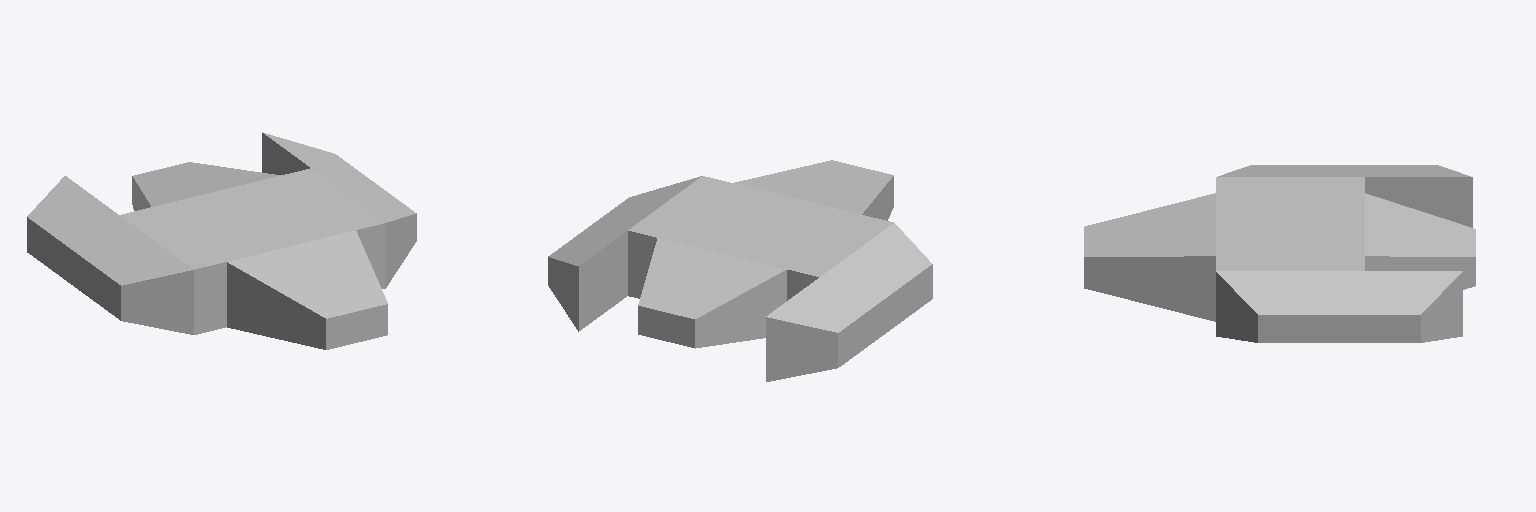
File: ship.obj
3 renders of one model, left to right at view 1: azimuth 30°, elevation 25°; view 2: azimuth 150°, elevation 25°; view 3: azimuth 270°, elevation 25°, orthographic.
Bounding box in the file's own units: 1.16 × 0.2418 × 1.31.